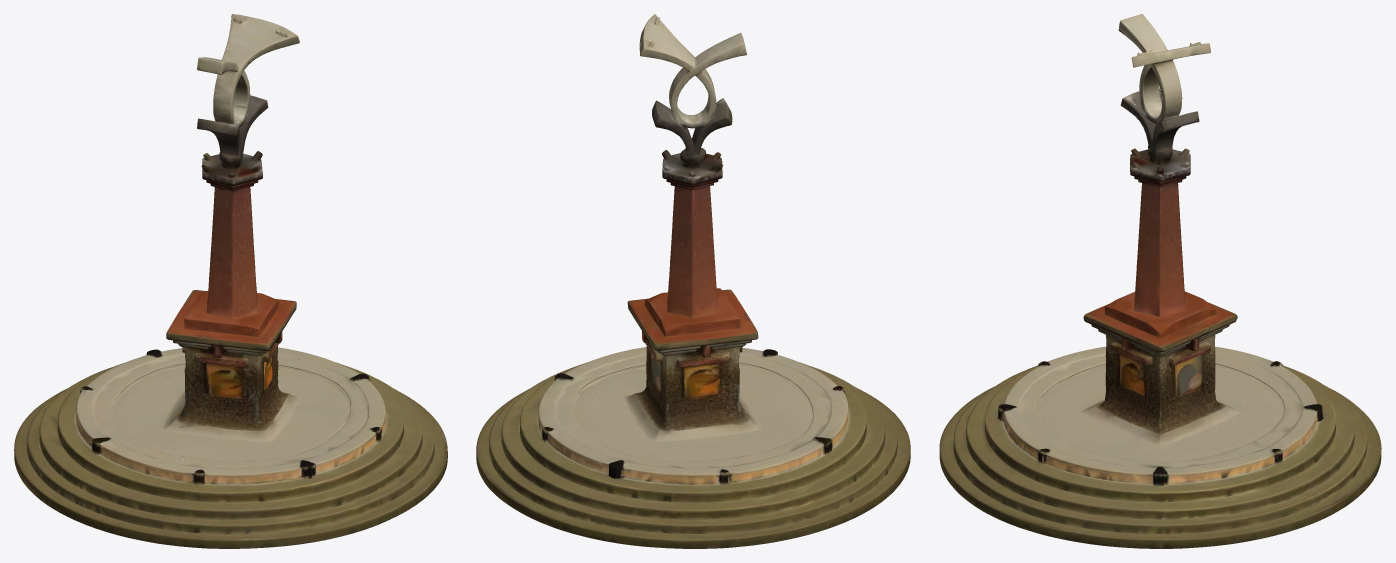
File: Tugu-LamAlif.glb
The picture shows the model from 3 angles, left to right: view 1: azimuth 30°, elevation 25°; view 2: azimuth 150°, elevation 25°; view 3: azimuth 270°, elevation 25°; orthographic projection.
Visible parts, largest first — view 1: node_0; view 2: node_0; view 3: node_0.
Boxes of the visible parts, bbox=[...] form: node_0: bbox=[14, 14, 447, 548]; node_0: bbox=[476, 14, 910, 548]; node_0: bbox=[939, 14, 1381, 548].
Size of the model in its own units: 3.2 by 3.46 by 3.22.
1 material, 1 textured.
